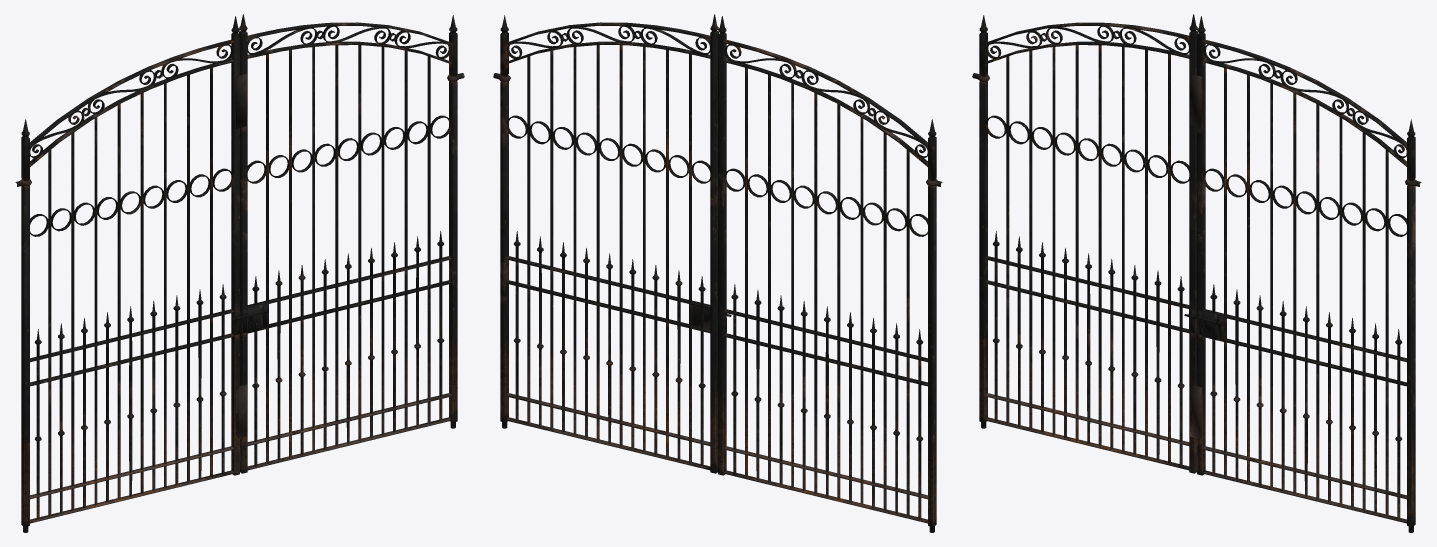
The model's file is large_iron_gate.glb.
The picture shows the model from 3 angles, left to right: view 1: azimuth 30°, elevation 25°; view 2: azimuth 150°, elevation 25°; view 3: azimuth 330°, elevation 25°; orthographic projection.
Parts seen in each view (by area): view 1: large_iron_gate_right_door, large_iron_gate_left_door; view 2: large_iron_gate_left_door, large_iron_gate_right_door; view 3: large_iron_gate_right_door, large_iron_gate_left_door.
Boxes of the visible parts, left/top/right/bottom form: large_iron_gate_right_door: left=235, top=14, right=457, bottom=473; large_iron_gate_left_door: left=21, top=16, right=241, bottom=532; large_iron_gate_left_door: left=718, top=16, right=936, bottom=532; large_iron_gate_right_door: left=500, top=14, right=718, bottom=473; large_iron_gate_right_door: left=1190, top=16, right=1415, bottom=532; large_iron_gate_left_door: left=979, top=14, right=1197, bottom=473.
Bounding box in the file's own units: 2.95 × 2.93 × 0.0973.
1 material, 1 textured.
